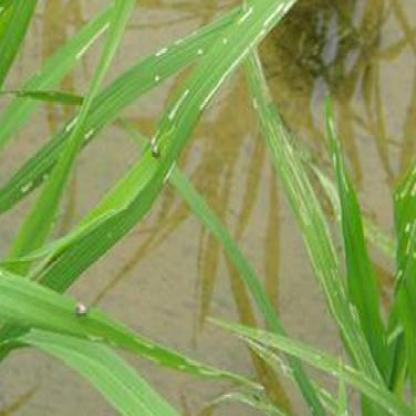rice-bug: (149, 138, 163, 158), (75, 300, 90, 318)
